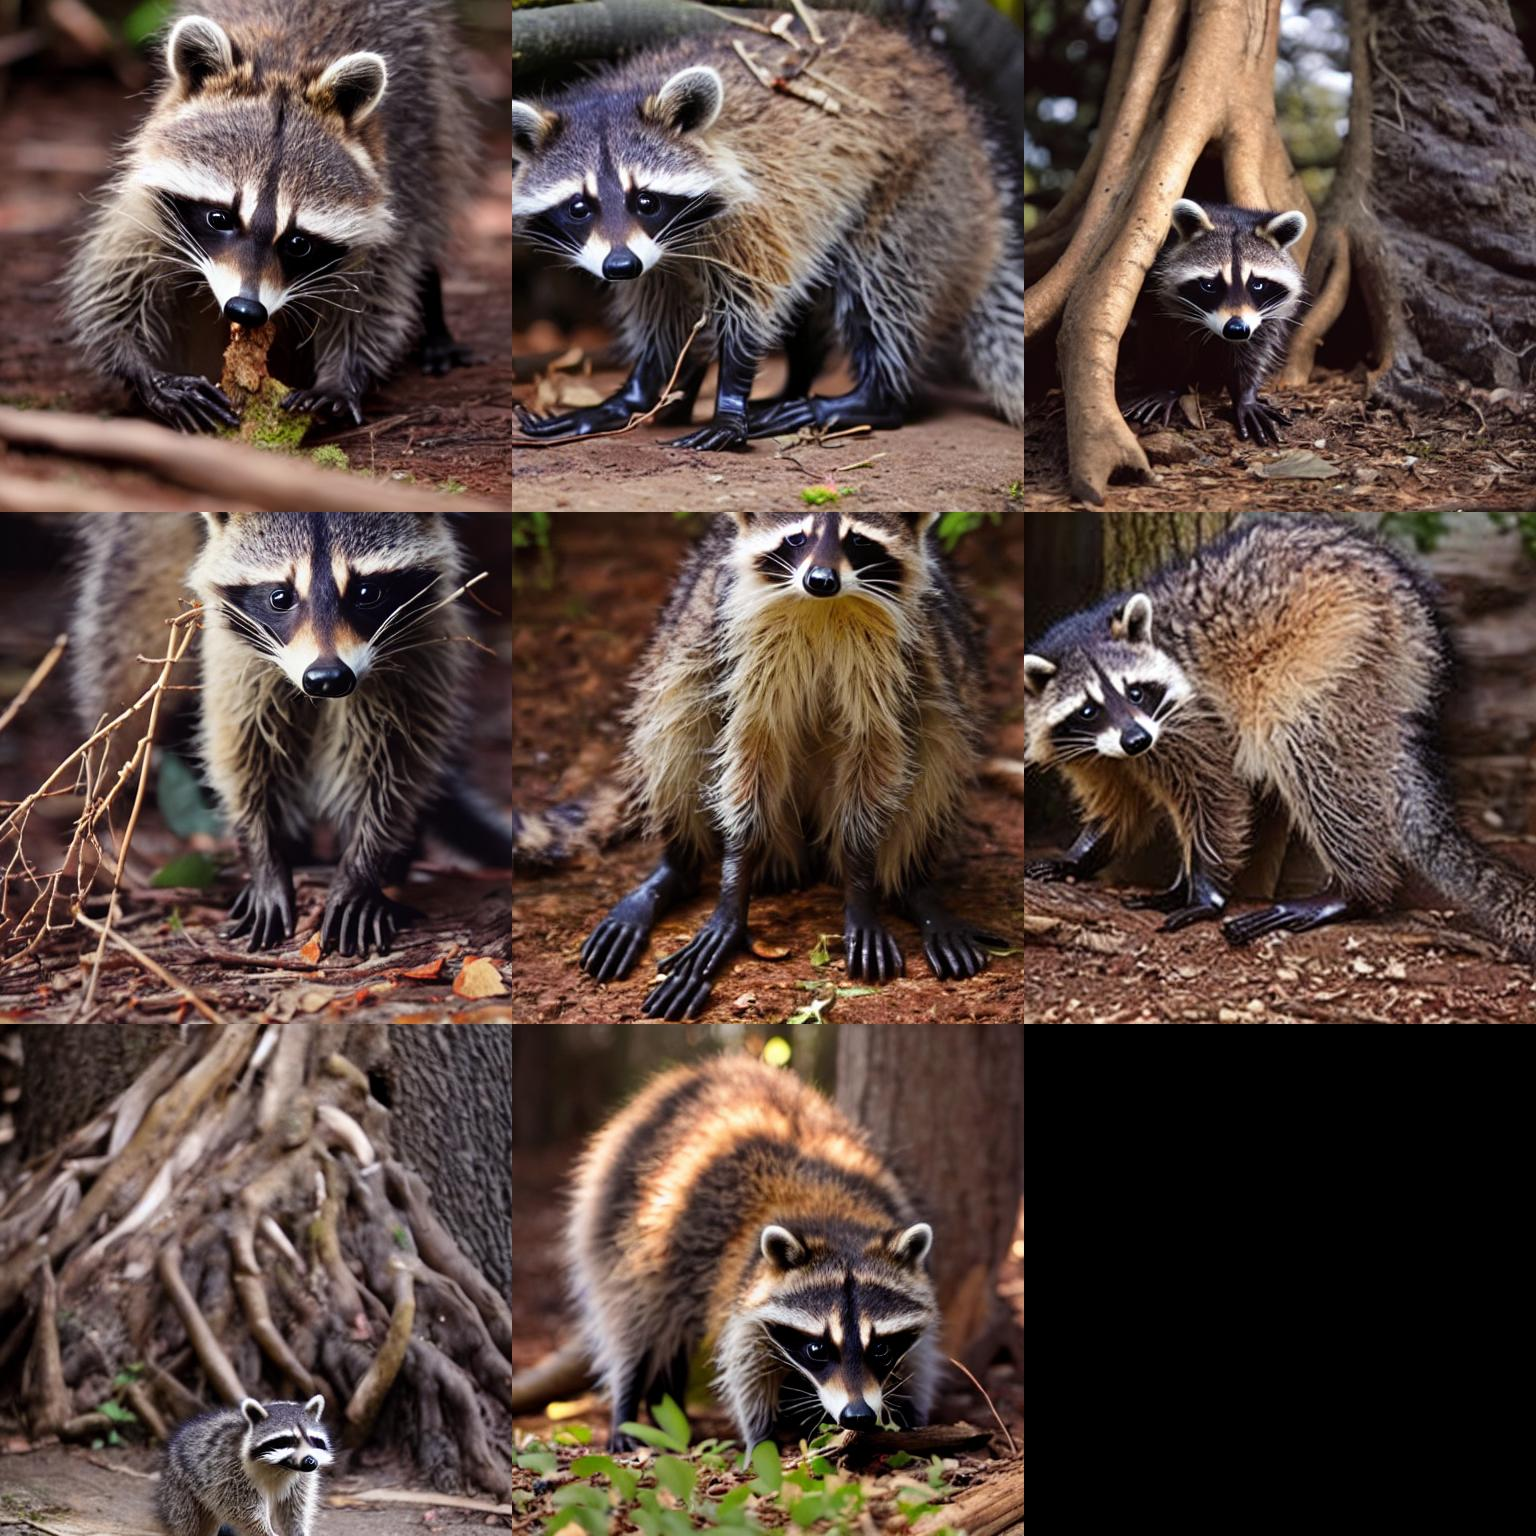raccoon: (511, 7, 994, 392), (550, 1039, 980, 1466), (60, 0, 475, 390), (1027, 520, 1467, 862), (620, 515, 993, 859), (62, 515, 482, 814), (1125, 193, 1315, 398), (142, 1390, 354, 1536)
